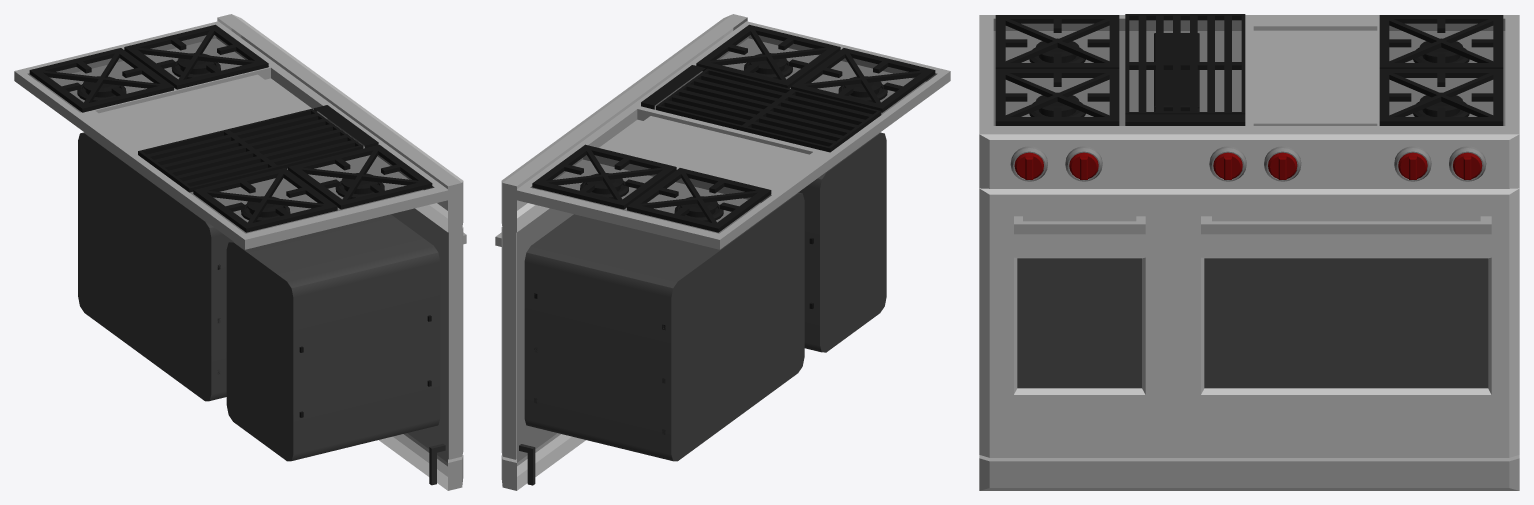
Rendered from Stove_Closed_MDL.fbx.
3 views of the same model, side by side, from view 1: azimuth 30°, elevation 25°; view 2: azimuth 150°, elevation 25°; view 3: azimuth 270°, elevation 25° (orthographic). The views are drawn at different scales.
Visible parts, largest first — view 1: stove; view 2: stove; view 3: stove.
Boxes of the visible parts, x1,y1,x2,y2 form: stove: (14, 14, 466, 490); stove: (495, 14, 950, 490); stove: (979, 14, 1519, 490).
Size of the model in its own units: 97.96 by 121 by 165.
